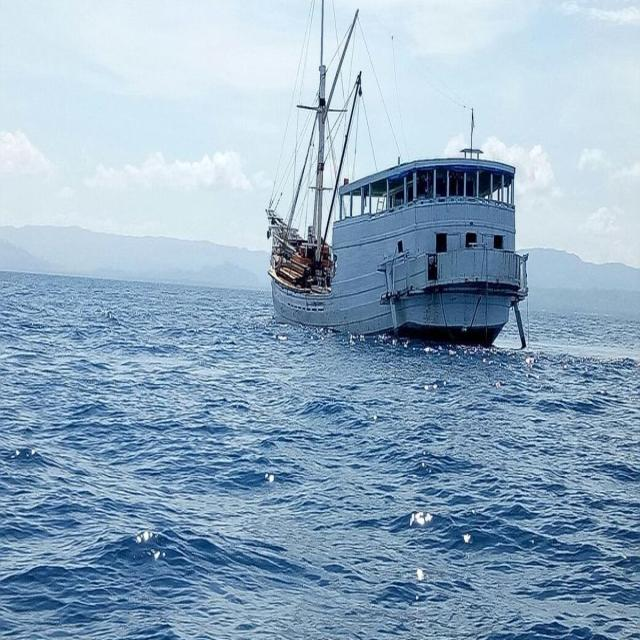Fishing Boat: (205, 31, 531, 363)
